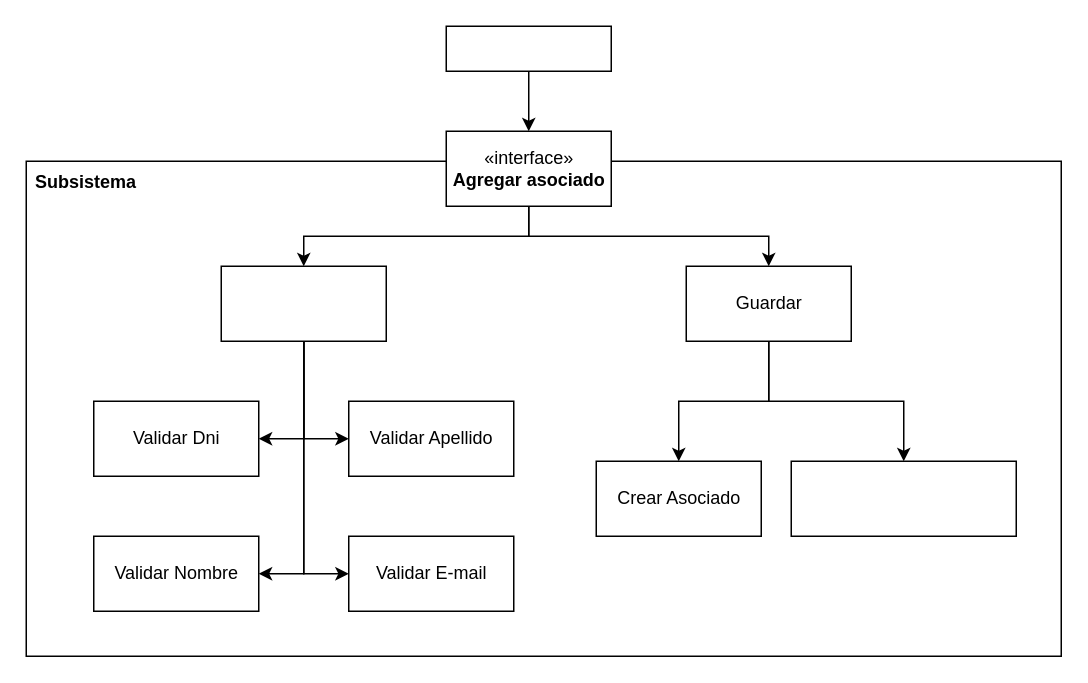
Some shapes in this 1088 by 683 pixel diagram are drawn without their labels. Each missing label, with the centre of its shape:
"Cliente" goes at point 528,48.
"Insertar en LocalStorage" goes at point 903,498.
"validar" goes at point 303,303.
